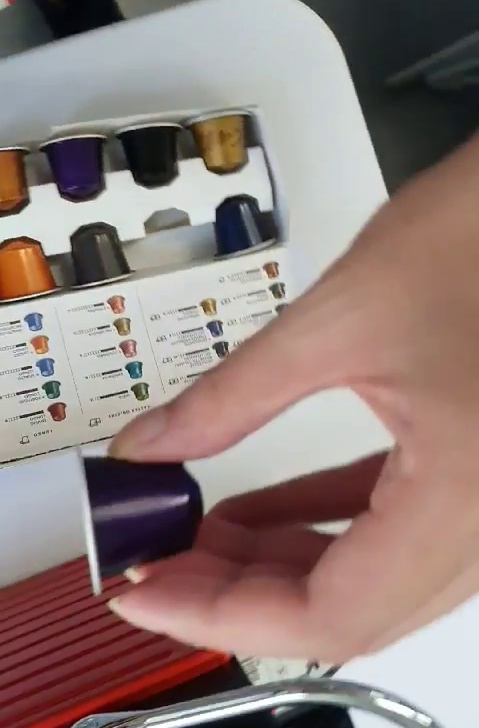capsule_2: (68, 445, 208, 595)
